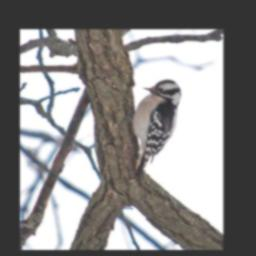Woodpecker: (120, 79, 182, 178)
